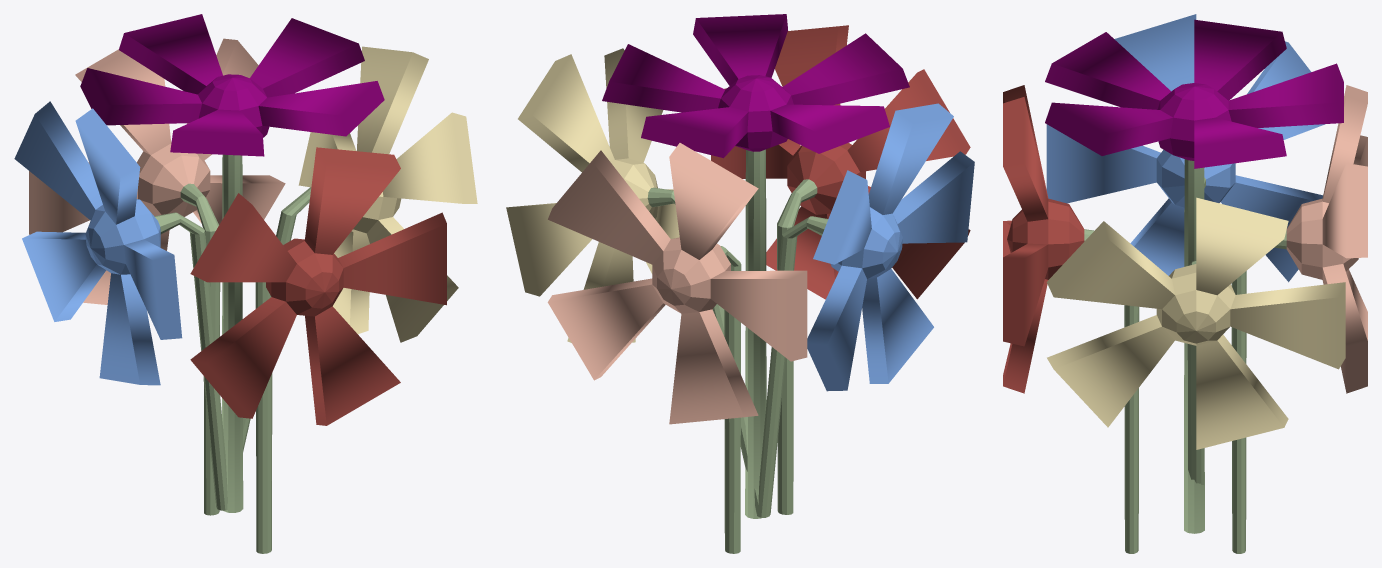
The model's file is geo_flowersGrouped.fbx.
3 views of the same model, side by side, from view 1: azimuth 30°, elevation 25°; view 2: azimuth 150°, elevation 25°; view 3: azimuth 270°, elevation 25° (orthographic). The views are drawn at different scales.
Visible parts, largest first — view 1: geo_plantShrub_06, geo_plantShrub_04, geo_plantShrub_08, geo_plantShrub_07, geo_plantShrub_09; view 2: geo_plantShrub_09, geo_plantShrub_04, geo_plantShrub_08, geo_plantShrub_06, geo_plantShrub_07; view 3: geo_plantShrub_07, geo_plantShrub_04, geo_plantShrub_08, geo_plantShrub_06, geo_plantShrub_09.
Boxes of the visible parts, box(x1,y1,x2,y2) form: geo_plantShrub_06: box(190, 147, 446, 553); geo_plantShrub_04: box(80, 14, 384, 512); geo_plantShrub_08: box(14, 101, 227, 510); geo_plantShrub_07: box(243, 46, 477, 451); geo_plantShrub_09: box(29, 38, 285, 515); geo_plantShrub_09: box(547, 143, 807, 553); geo_plantShrub_04: box(602, 14, 909, 518); geo_plantShrub_08: box(757, 103, 974, 517); geo_plantShrub_06: box(711, 25, 970, 514); geo_plantShrub_07: box(506, 48, 758, 514); geo_plantShrub_07: box(1046, 197, 1345, 484); geo_plantShrub_04: box(1045, 19, 1343, 533); geo_plantShrub_08: box(1046, 14, 1325, 282); geo_plantShrub_06: box(1003, 85, 1139, 553); geo_plantShrub_09: box(1231, 85, 1367, 553).
Bounding box in the file's own units: 15.76 × 19.36 × 13.71.
